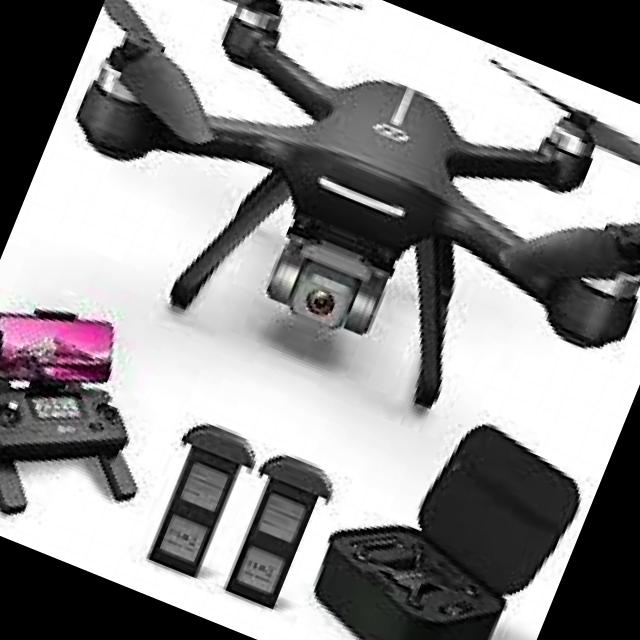drone: (3, 0, 640, 489)
